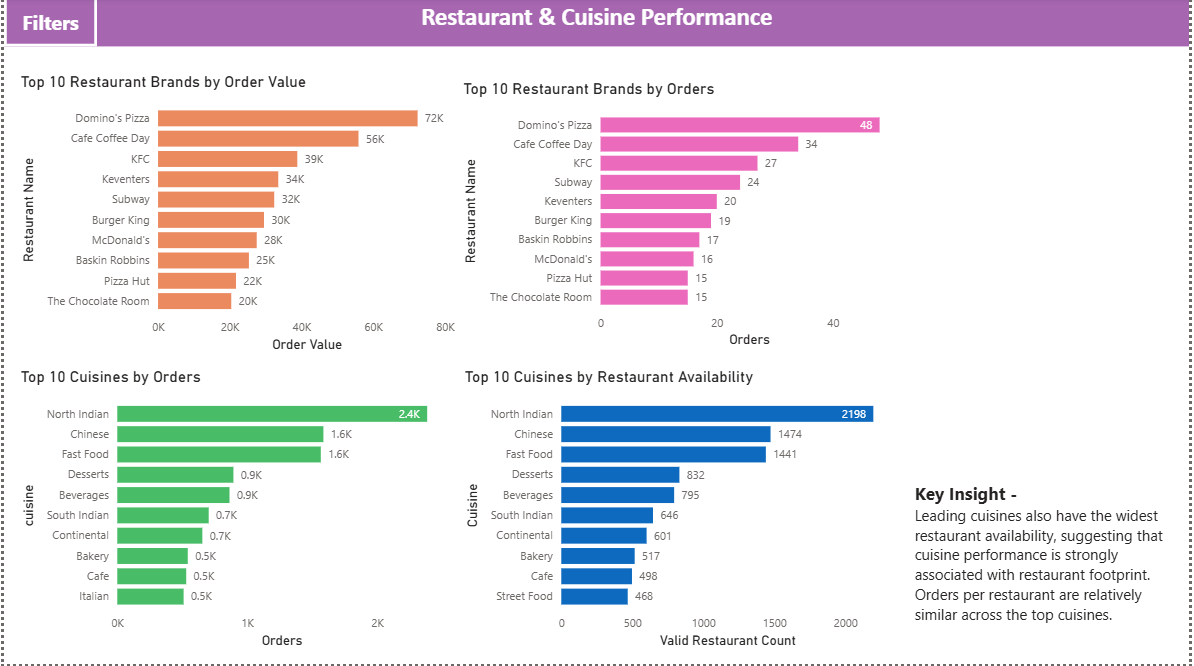

This screenshot's page, from the dashboard's own definition file:
{"tool":"powerbi","page":{"name":"Restaurant & Cuisine Performance","canvas":[1280,720],"ordinal":2},"visuals":[{"type":"barChart","title":"Top 10 Restaurant Brands by Order Value","fields":{"Category":["zomato_analysis zomato_restaurants.restaurant_name"],"Y":["MeasuresTable.Valid Business Order Value"]},"box":[13.3,81.7,490,306.7],"z":0},{"type":"barChart","title":"Top 10 Restaurant Brands by Orders","fields":{"Category":["zomato_analysis zomato_restaurants.restaurant_name"],"Y":["MeasuresTable.Valid Business Orders"]},"box":[490,88.3,486.7,293.3],"z":1000},{"type":"barChart","title":"Top 10 Cuisines by Orders","fields":{"Category":["zomato_analysis restaurants_cuisines.cuisine"],"Y":["MeasuresTable.Valid Business Orders"]},"box":[13.3,400,476.7,306.7],"z":2000},{"type":"barChart","title":"Top 10 Cuisines by Restaurant Availability","fields":{"Y":["MeasuresTable.Valid Restaurant Count"],"Category":["zomato_analysis restaurants_cuisines.cuisine"]},"box":[491.7,400,486.7,306.7],"z":3000},{"type":"textbox","box":[978.3,518.3,280,188.3],"z":4000},{"type":"textbox","box":[0,0,1280,53.3],"z":5000},{"type":"actionButton","title":"Filters","box":[0,0,100.4,53.4],"z":11000}]}

Visuals, with their boxes in screenshot pixels (x1, y1, x2, y2), scaled from the page's 1280x720 canvas onto the 1194x666 screenshot:
"Top 10 Restaurant Brands by Order Value" barChart: (left=12, top=76, right=469, bottom=359)
"Top 10 Restaurant Brands by Orders" barChart: (left=457, top=82, right=911, bottom=353)
"Top 10 Cuisines by Orders" barChart: (left=12, top=370, right=457, bottom=654)
"Top 10 Cuisines by Restaurant Availability" barChart: (left=459, top=370, right=913, bottom=654)
textbox: (left=913, top=479, right=1174, bottom=654)
textbox: (left=0, top=0, right=1193, bottom=49)
"Filters" actionButton: (left=0, top=0, right=94, bottom=49)
